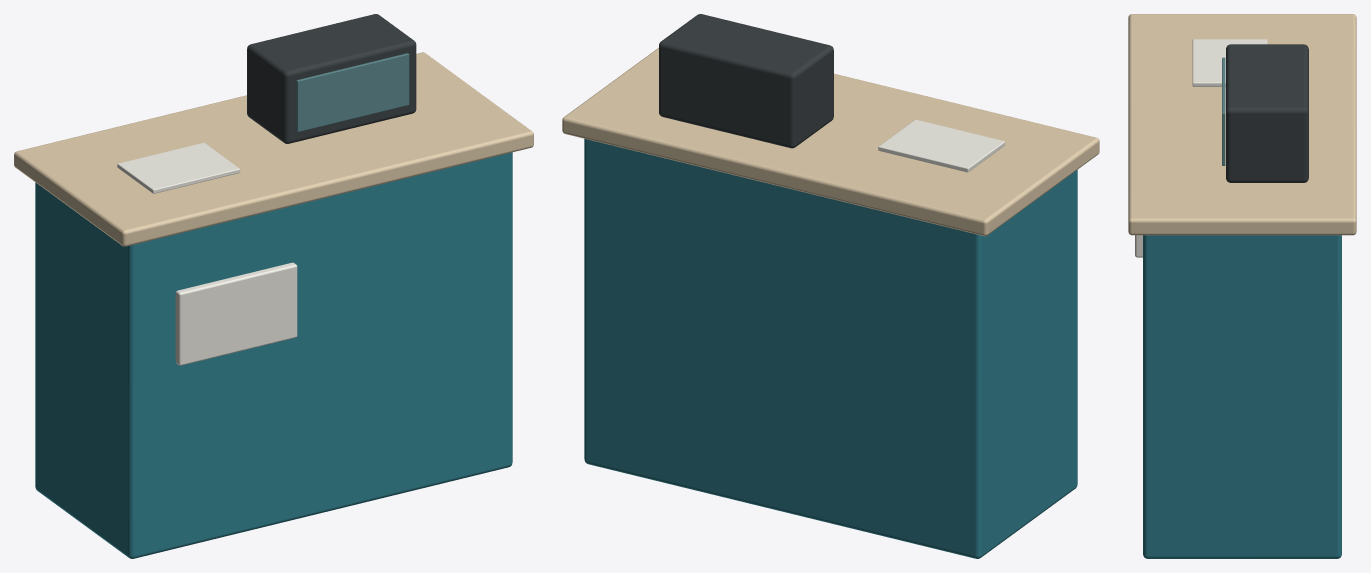
Rendered from bicycle-shop-and-repair-cafe-repair-booking-counter-d3c72f1d__32425.glb.
The picture shows the model from 3 angles, left to right: view 1: azimuth 30°, elevation 25°; view 2: azimuth 150°, elevation 25°; view 3: azimuth 270°, elevation 25°; orthographic projection. The views are drawn at different scales.
Visible parts, largest first — view 1: repair-booking-counter; view 2: repair-booking-counter; view 3: repair-booking-counter.
Boxes of the visible parts, x1,y1,x2,y2 form: repair-booking-counter: [14, 14, 533, 558]; repair-booking-counter: [562, 14, 1099, 558]; repair-booking-counter: [1128, 14, 1356, 558].
Bounding box in the file's own units: 1.18 × 1.13 × 0.55.
